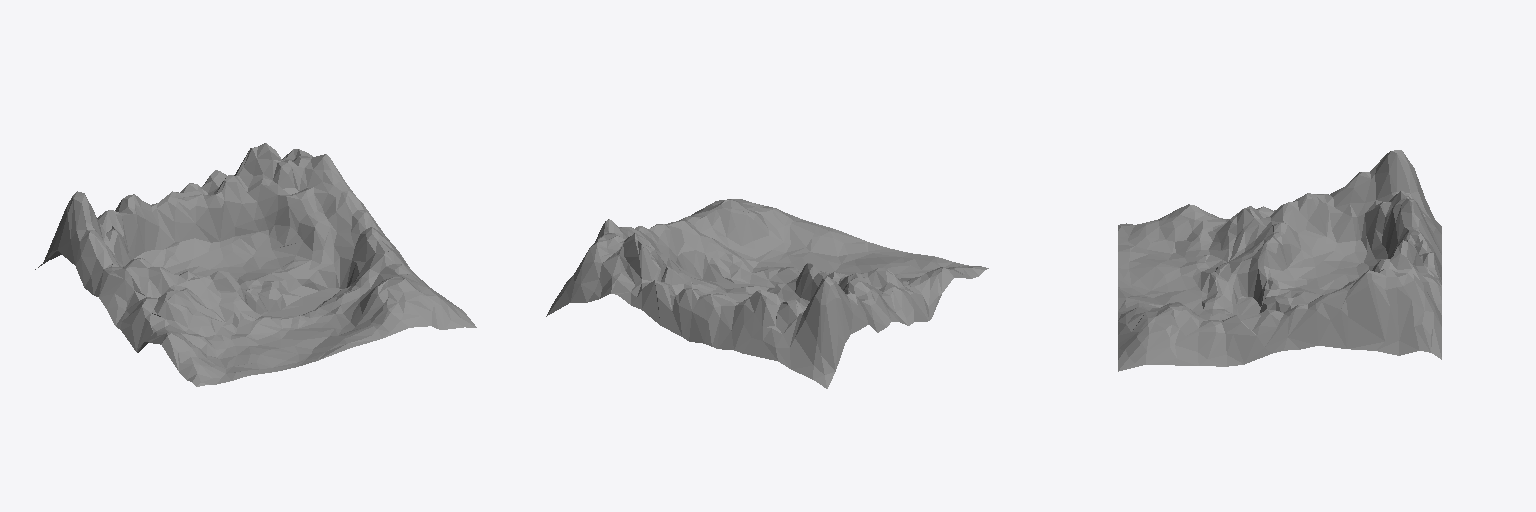
File: Land01_OBJ.obj
3 views of the same model, side by side, from view 1: azimuth 30°, elevation 25°; view 2: azimuth 150°, elevation 25°; view 3: azimuth 270°, elevation 25° (orthographic).
Parts seen in each view (by area): view 1: default; view 2: default; view 3: default.
Boxes of the visible parts, x1=… form: default: x1=35, y1=143, x2=476, y2=386; default: x1=546, y1=199, x2=988, y2=388; default: x1=1118, y1=150, x2=1441, y2=371.
Bounding box in the file's own units: 39370 × 13542 × 39370.